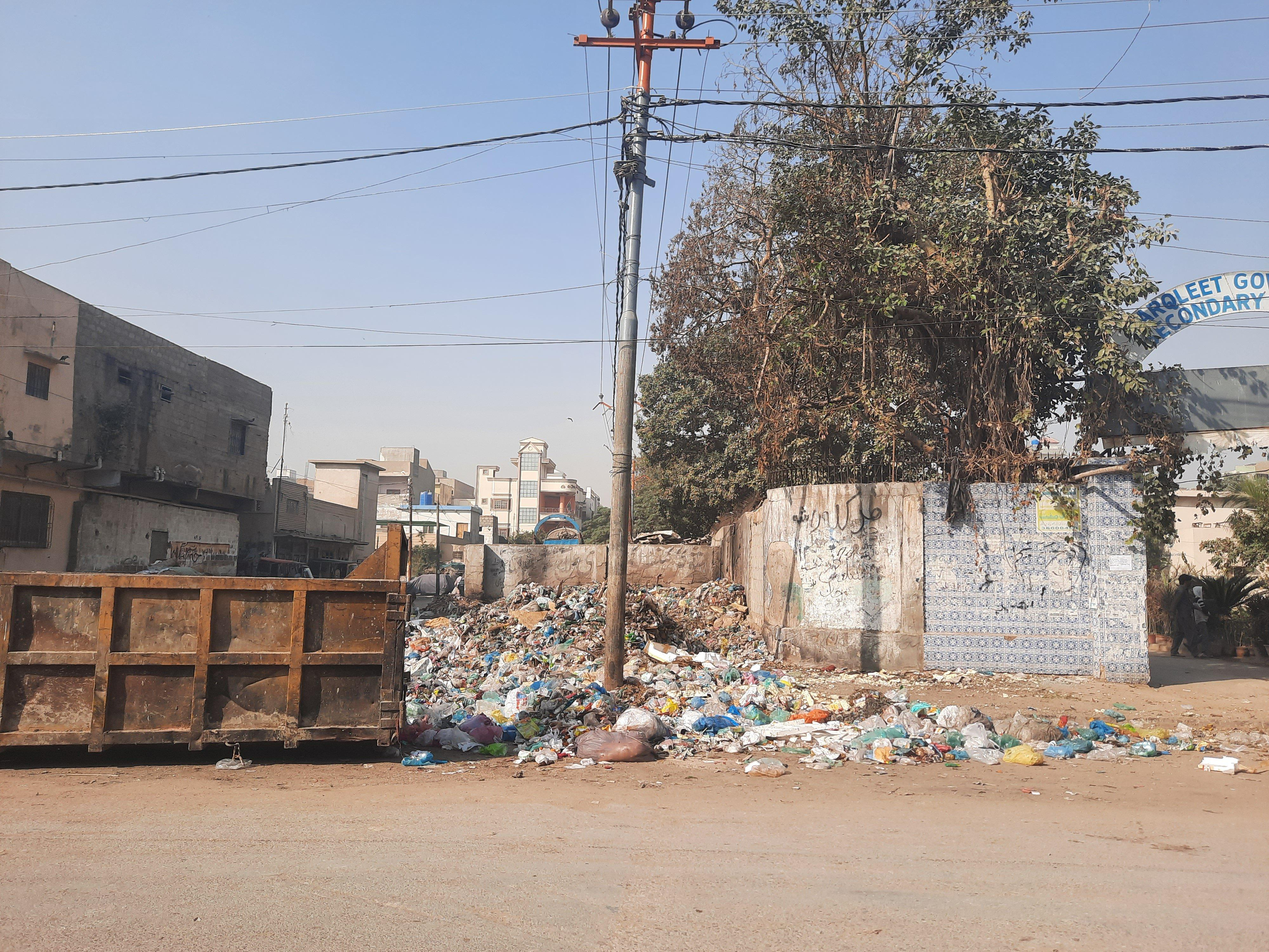garbage: (410, 570, 1243, 796)
